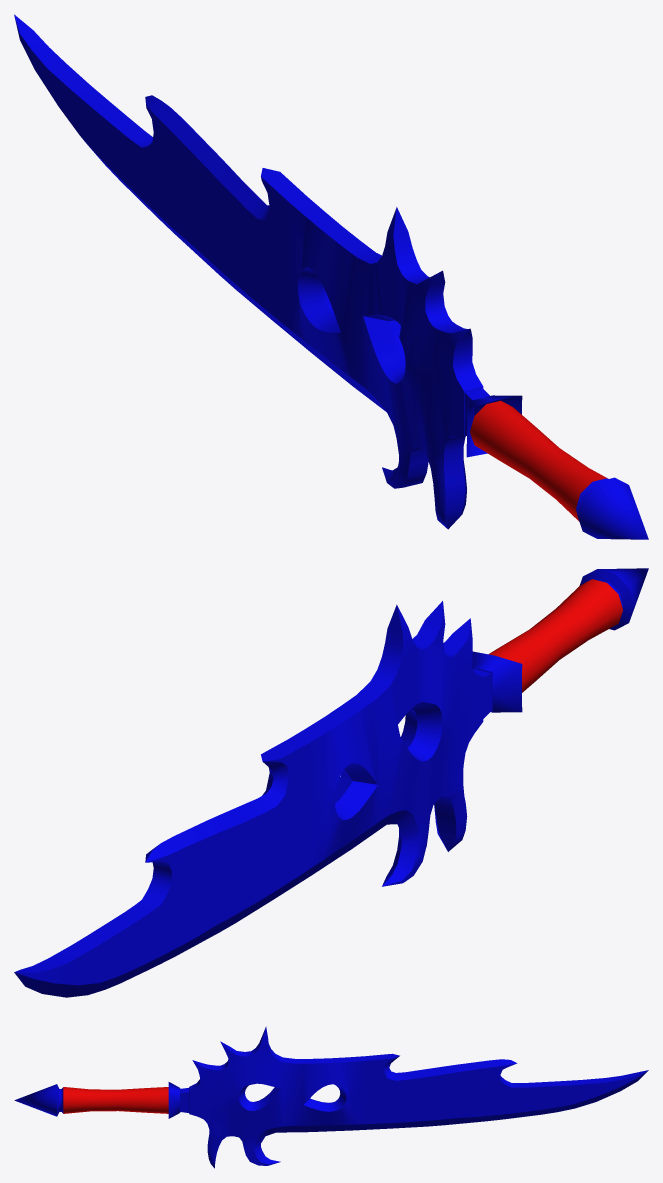
File: Sword_Epic0.fbx
3 views of the same model, one above another, from view 1: azimuth 30°, elevation 25°; view 2: azimuth 150°, elevation 25°; view 3: azimuth 270°, elevation 25° (orthographic). The views are drawn at different scales.
Visible parts, largest first — view 1: mech4, ruchka; view 2: mech4, ruchka; view 3: mech4, ruchka.
Boxes of the visible parts, left/top/right/bottom form: mech4: left=14, top=14, right=522, bottom=529; ruchka: left=470, top=400, right=648, bottom=539; mech4: left=14, top=601, right=522, bottom=997; ruchka: left=489, top=568, right=648, bottom=692; mech4: left=168, top=1026, right=648, bottom=1168; ruchka: left=14, top=1084, right=168, bottom=1116.
Size of the model in its own units: 0.6796 by 3.23 by 13.04.
